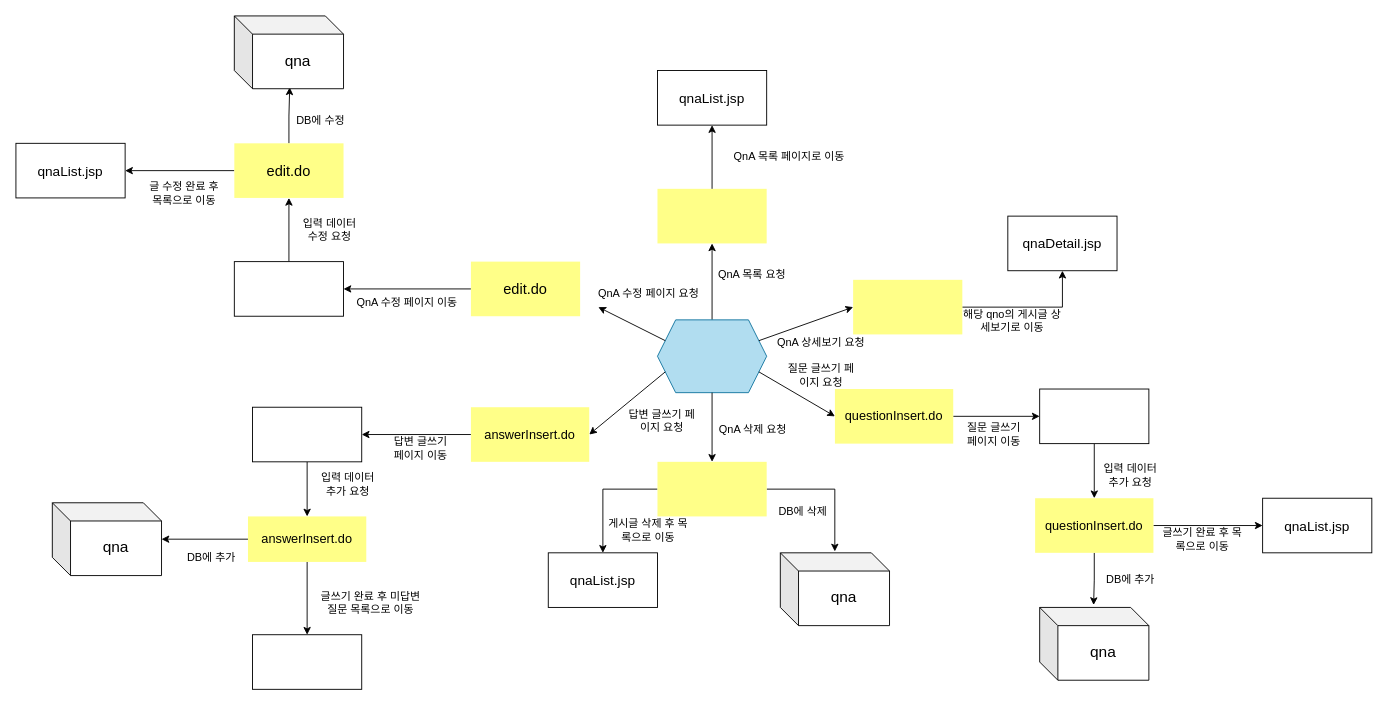
This 1388x705 diagram has some shape labels left out. The shapes that lost their labels are listed below. From the top down, each one's box as (x1, y1, x2, y2) in pixels, then its label:
(657, 188, 766, 243): list.do
(233, 261, 344, 316): qnaEdit.jsp
(853, 279, 962, 334): detail.do
(657, 319, 767, 393): QnA Controller
(252, 406, 362, 462): answerInsert.jsp
(1039, 388, 1149, 444): questionInsert.jsp
(657, 461, 766, 516): delete.do
(252, 634, 362, 689): noAnswerList.jsp
